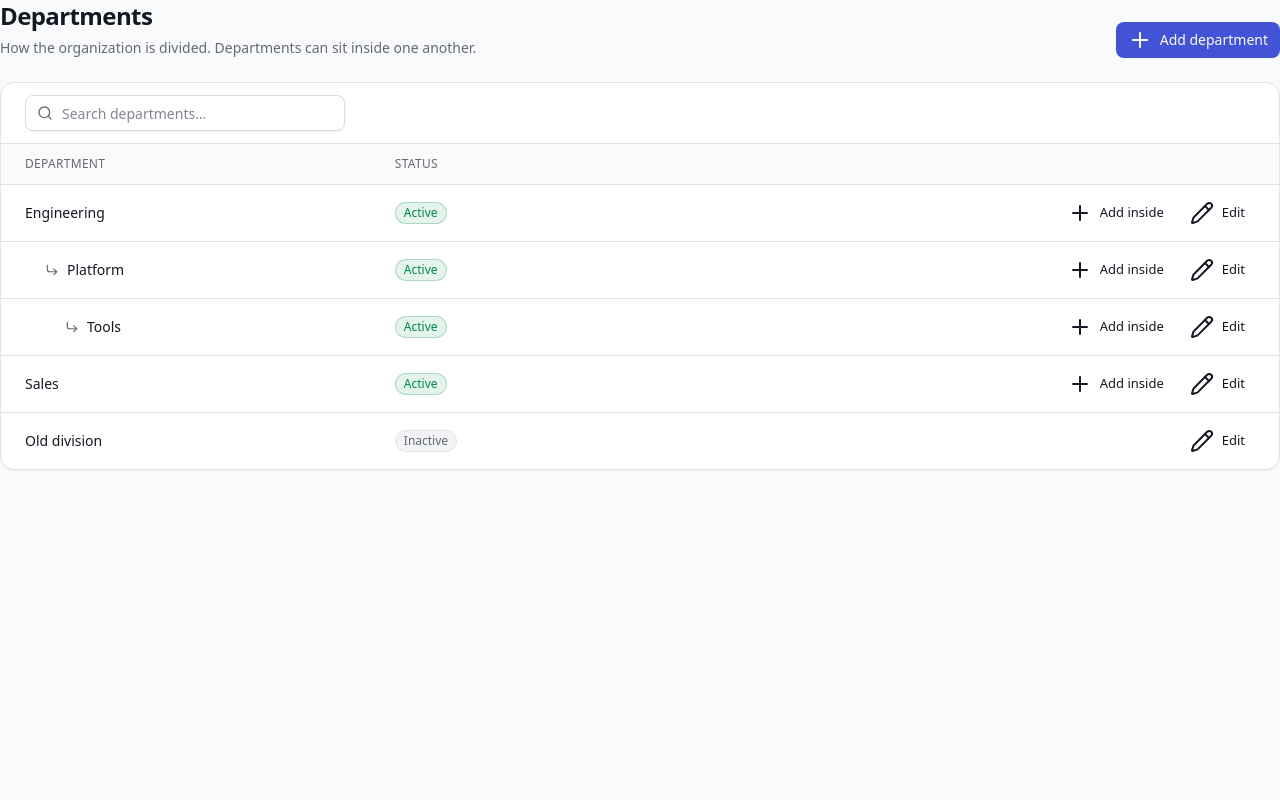
Test case: departments page › adds a department inside another
This screenshot has width=1280, height=800.
Click the button with aria-label "Add a department inside Engineering › Platform": point(1116, 270) top-left (1058, 254), bottom-right (1174, 286)
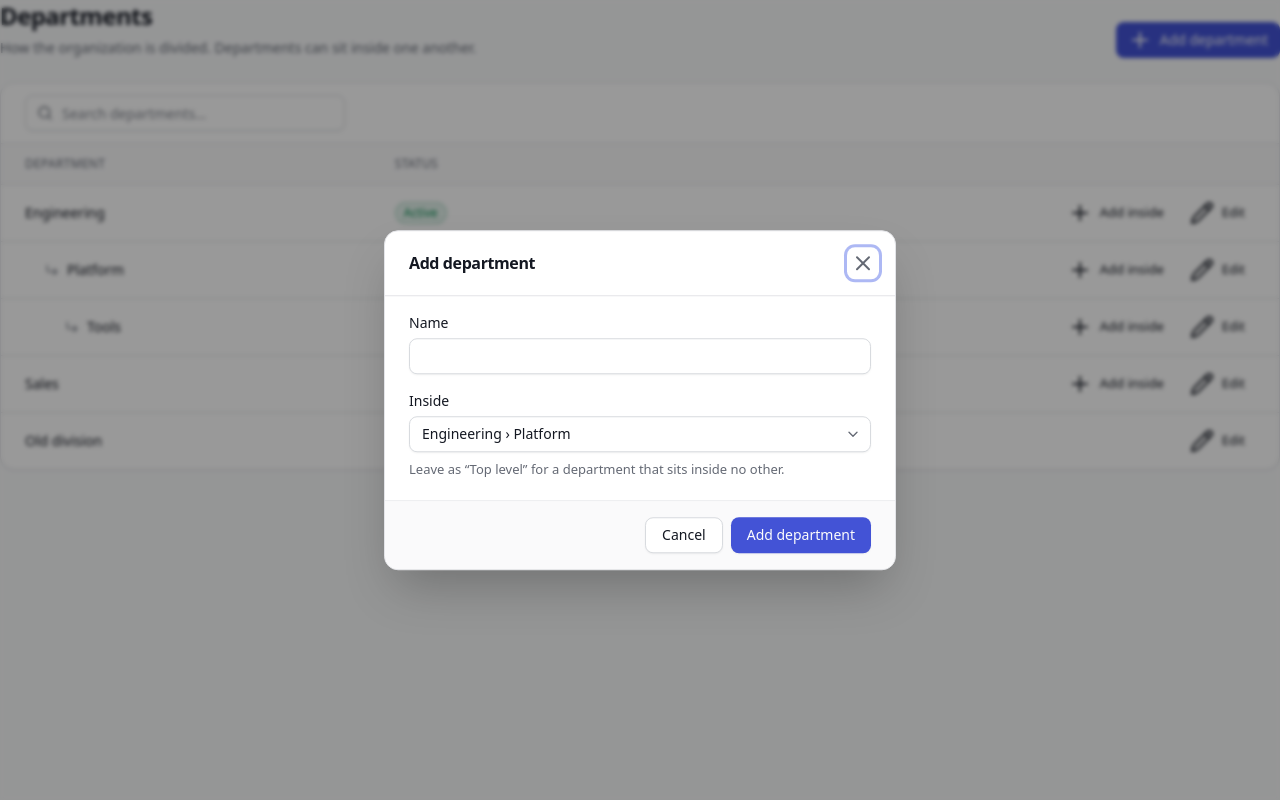
Now the dropdown labelled "Inside" shows "Engineering › Platform", box top-left (409, 416), bottom-right (871, 452)
In the field labelled "Name": point(640, 356) top-left (409, 338), bottom-right (871, 374), type "Data"
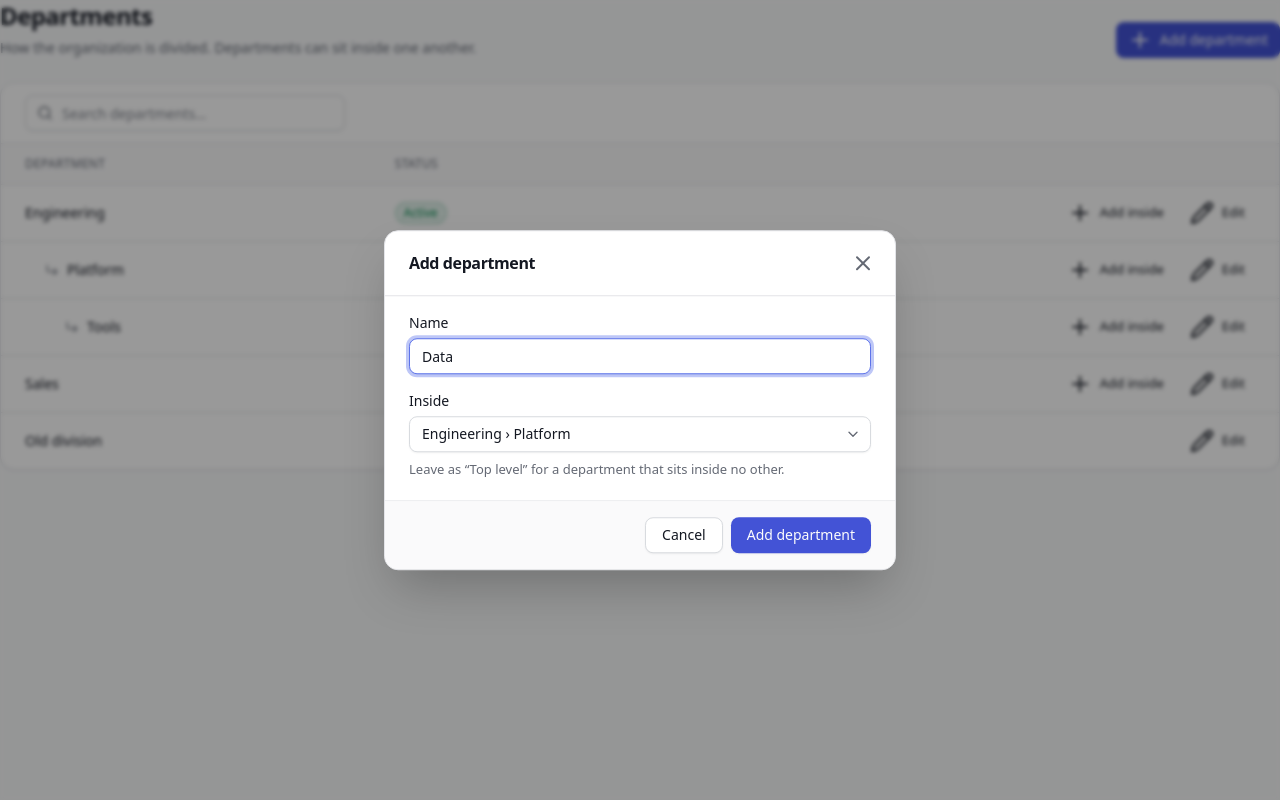
Click the button "Add department": point(801, 535) top-left (731, 517), bottom-right (871, 553)
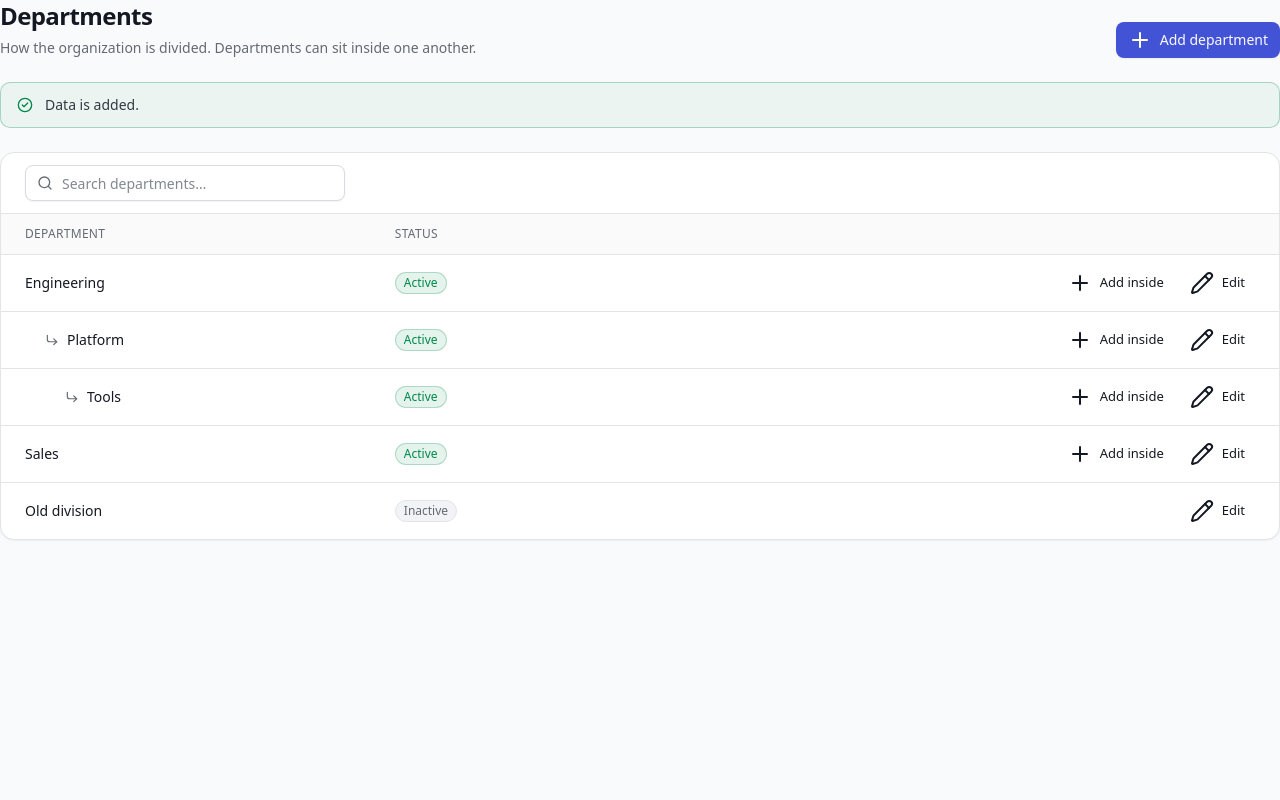
Now the text "Data is added." is shown, box top-left (45, 95), bottom-right (139, 115)
